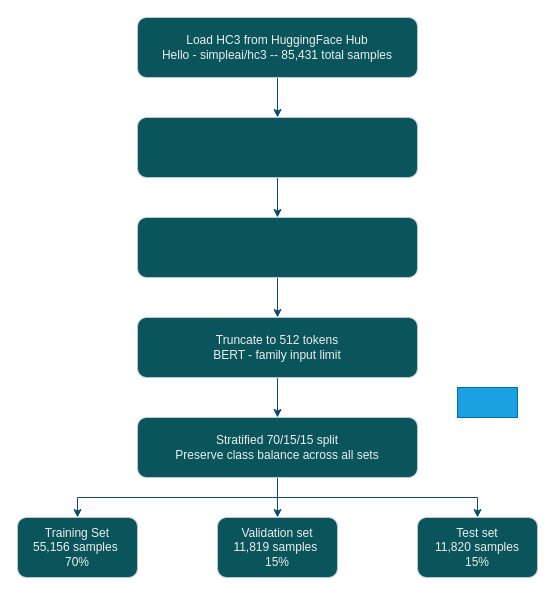
This 555x595 diagram has some shape labels left out. The shapes that lost their labels are listed below. From the top down, each one's box as (x1, y1, x2, y2) in pixels, then its label:
(136, 116, 418, 178): Remove null entries Drop rows with missing values
(136, 216, 418, 278): Remove short entries Drop entries under 10 tokens
(456, 386, 518, 418): B00409227
